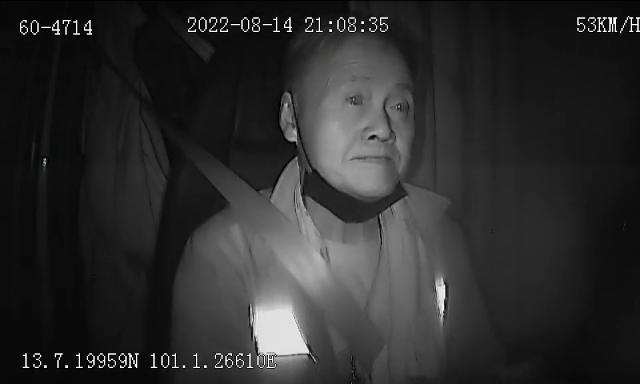SafeDriving: (338, 80, 372, 114), (382, 88, 416, 122)
Seatbelt: (193, 146, 389, 380)
